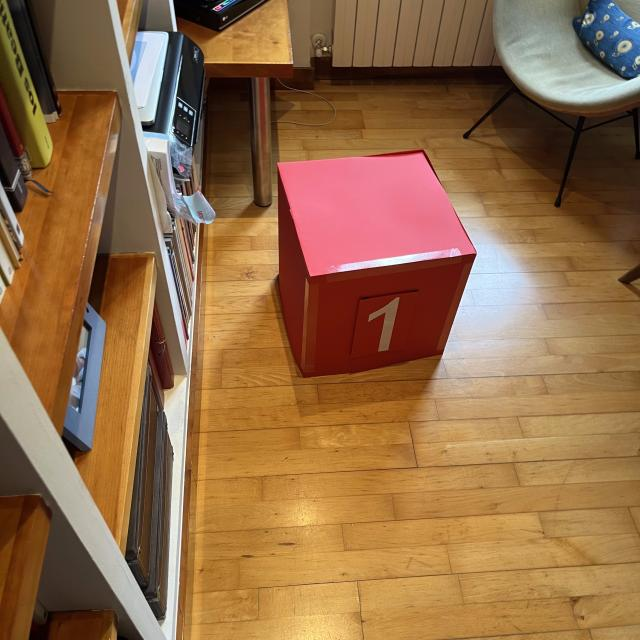box: (271, 146, 478, 378)
